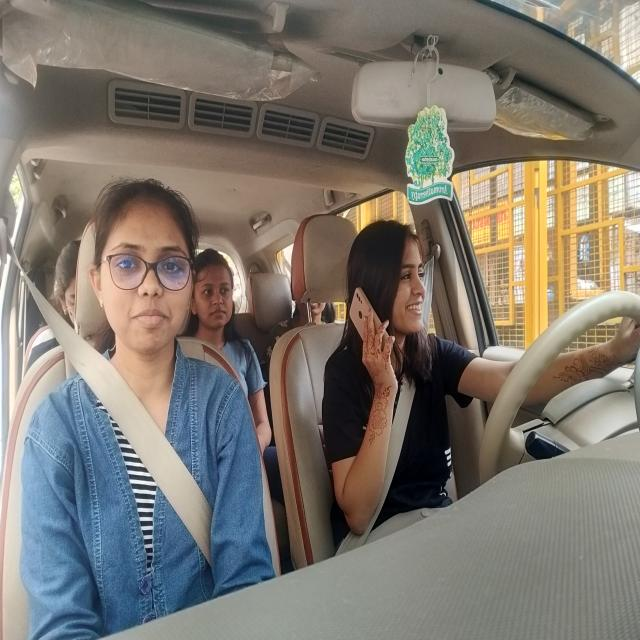mobile: (334, 282, 405, 390)
person: (82, 180, 201, 358), (343, 214, 442, 357), (190, 229, 242, 360), (49, 216, 79, 344)
